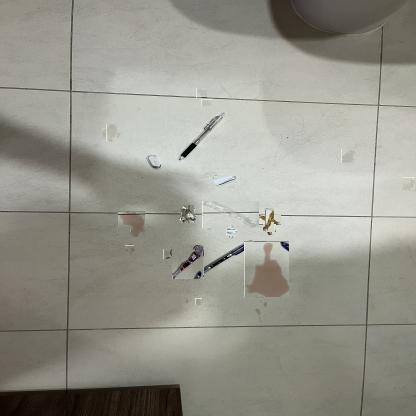dirty: (202, 202, 259, 230), (171, 245, 203, 278), (179, 206, 195, 223), (261, 212, 277, 228), (214, 176, 236, 186), (263, 223, 275, 234), (227, 228, 237, 237)
liquid: (244, 241, 289, 297), (117, 211, 145, 237), (104, 126, 119, 141), (402, 176, 416, 191), (341, 149, 356, 163), (254, 308, 262, 322), (196, 88, 207, 98), (201, 99, 212, 106), (125, 245, 134, 253), (163, 250, 171, 259), (260, 299, 268, 307), (195, 298, 202, 305)
